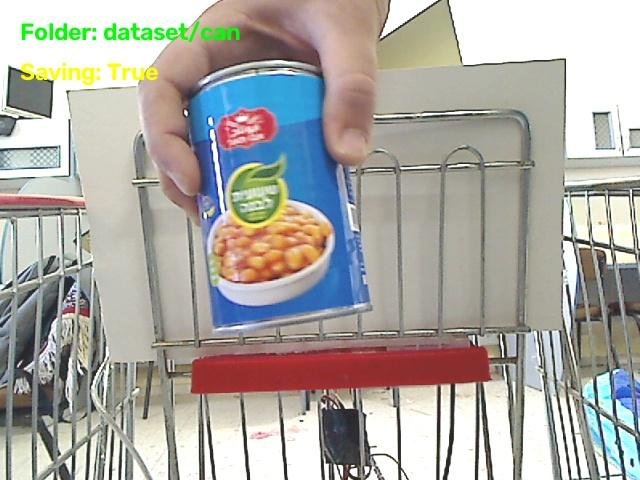can: (188, 61, 370, 330)
